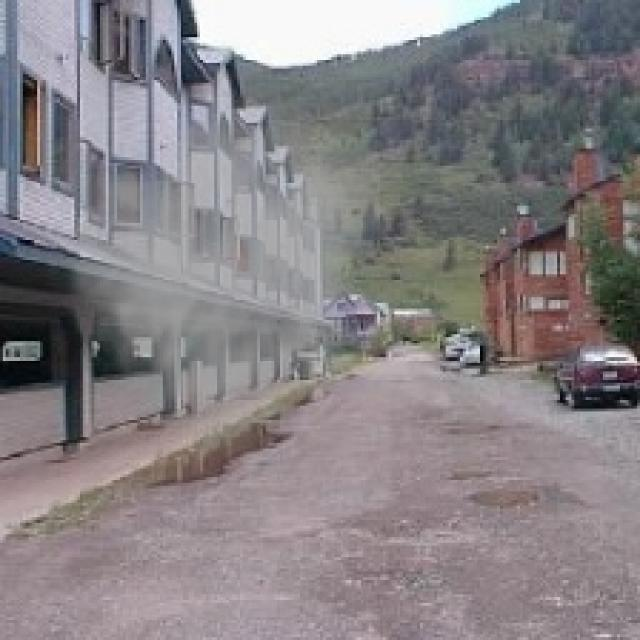smoke: (31, 71, 380, 466)
